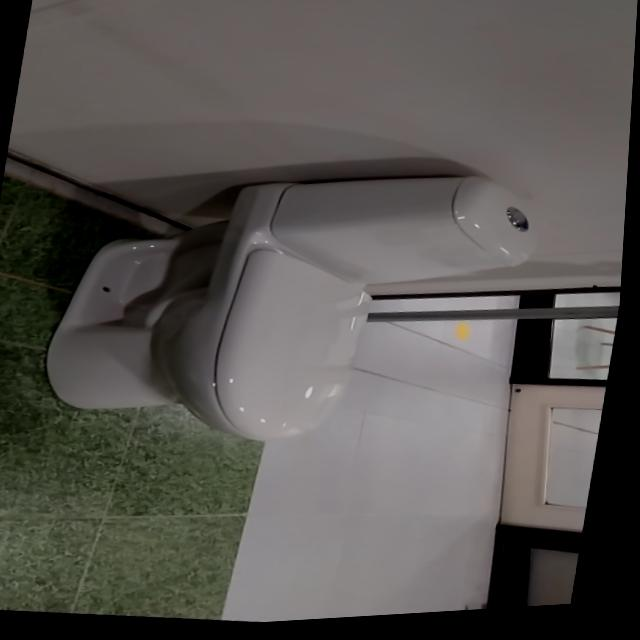toilet: (0, 0, 640, 640), (35, 134, 549, 481)
